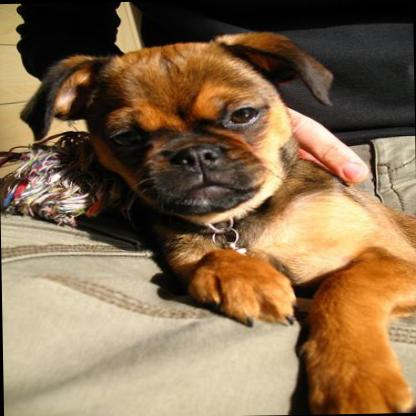Brabancon_griffon: (15, 26, 416, 416)
